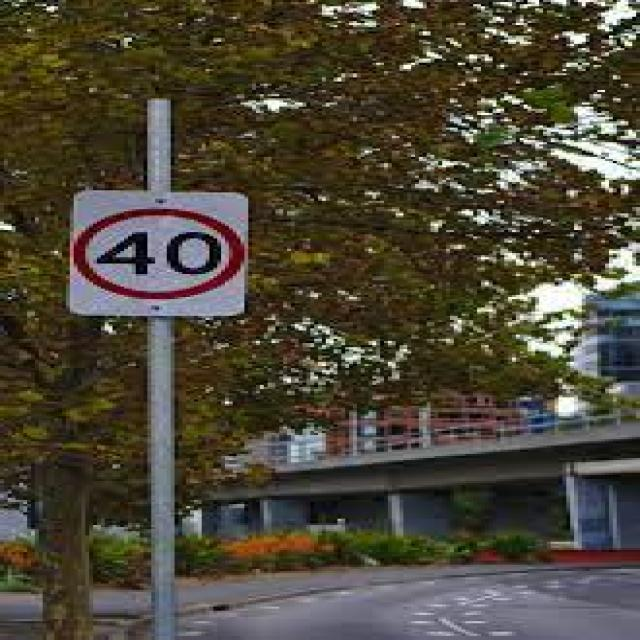speed limit 40: (71, 205, 253, 302)
